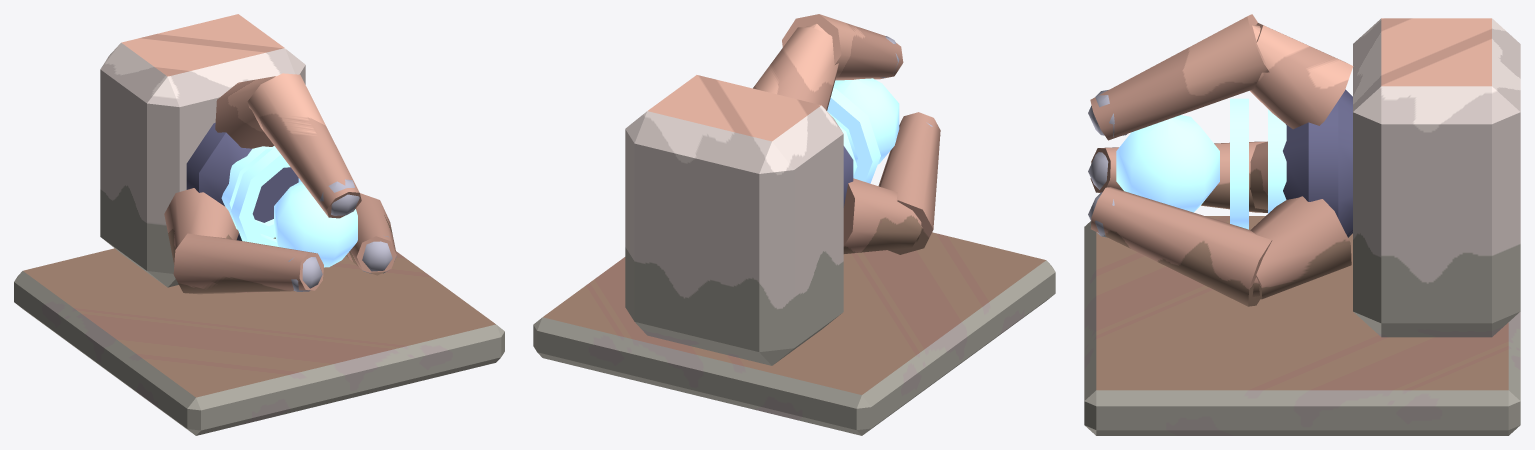
Rendered from R4X_DirectionalEMP_LOD1.glb.
3 renders of one model, left to right at view 1: azimuth 30°, elevation 25°; view 2: azimuth 150°, elevation 25°; view 3: azimuth 270°, elevation 25°, orthographic. The views are drawn at different scales.
Visible parts, largest first — view 1: R4X_DirectionalEMP_LOD1; view 2: R4X_DirectionalEMP_LOD1; view 3: R4X_DirectionalEMP_LOD1.
Boxes of the visible parts, x1=… form: R4X_DirectionalEMP_LOD1: x1=14, y1=14, x2=504, y2=435; R4X_DirectionalEMP_LOD1: x1=533, y1=14, x2=1055, y2=435; R4X_DirectionalEMP_LOD1: x1=1084, y1=14, x2=1520, y2=435.
Size of the model in its own units: 0.52 by 0.4373 by 0.52.
5 materials, 4 textured.
